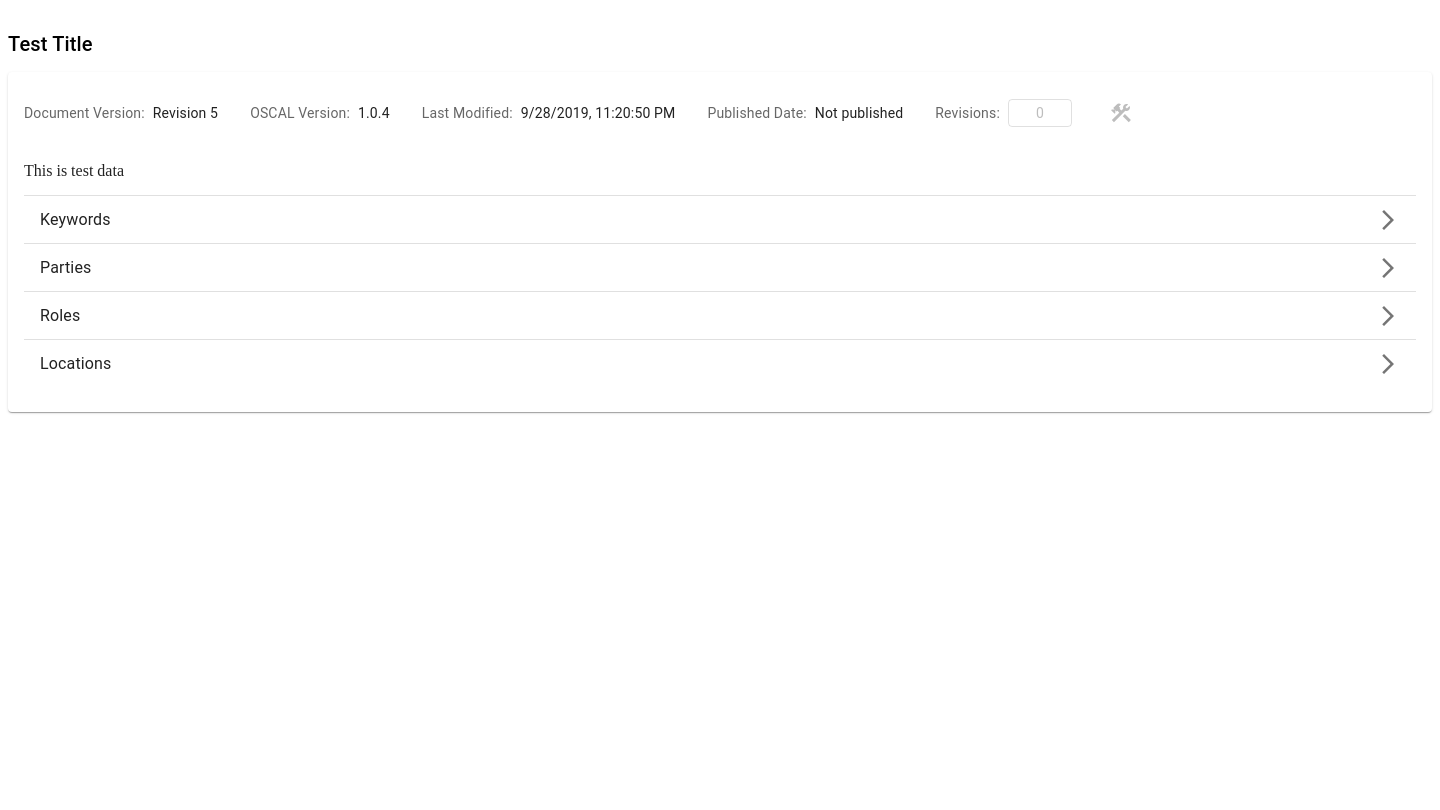
Test case: OSCAL metadata locations › display location address
This screenshot has width=1440, height=810.
Click the button "Locations" at point(76, 364), box [40,352,1400,376]
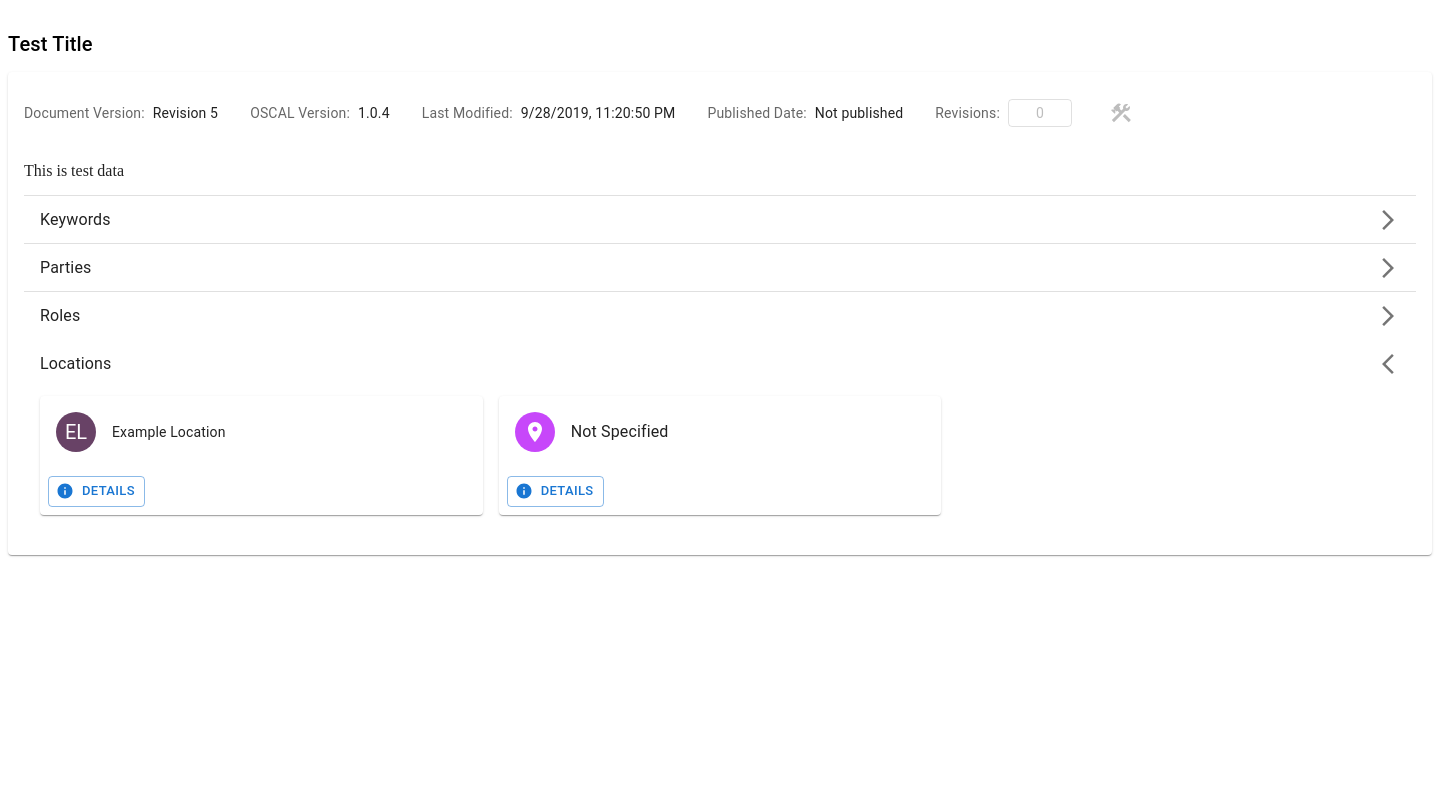
Click the button with aria-label "Example Location details button" at point(96, 491), box [48,476,145,507]
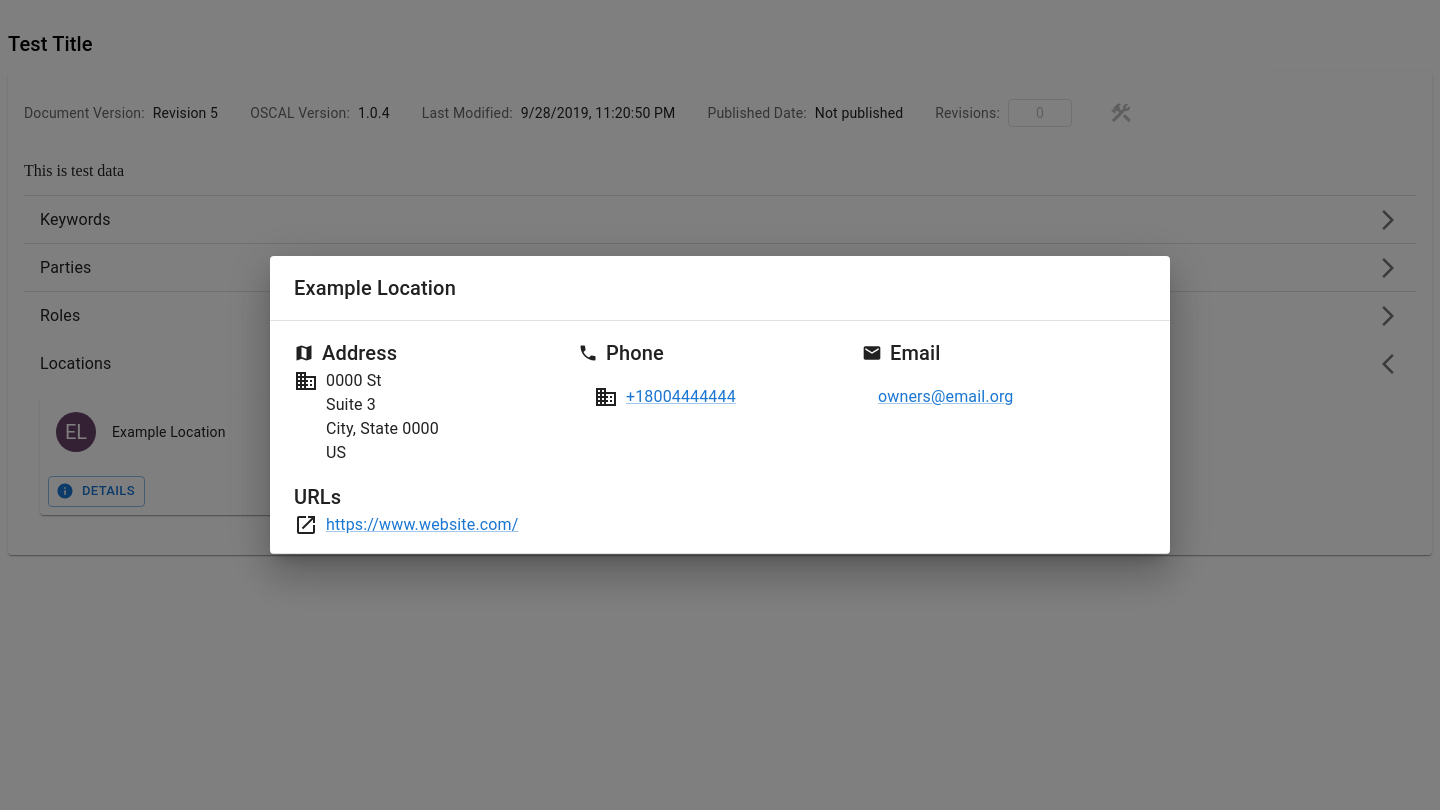
Result: the heading "Address" is shown at [322,337,397,369]
Result: the text "0000 StSuite 3City, State 0000US" is shown at [326,369,439,465]
